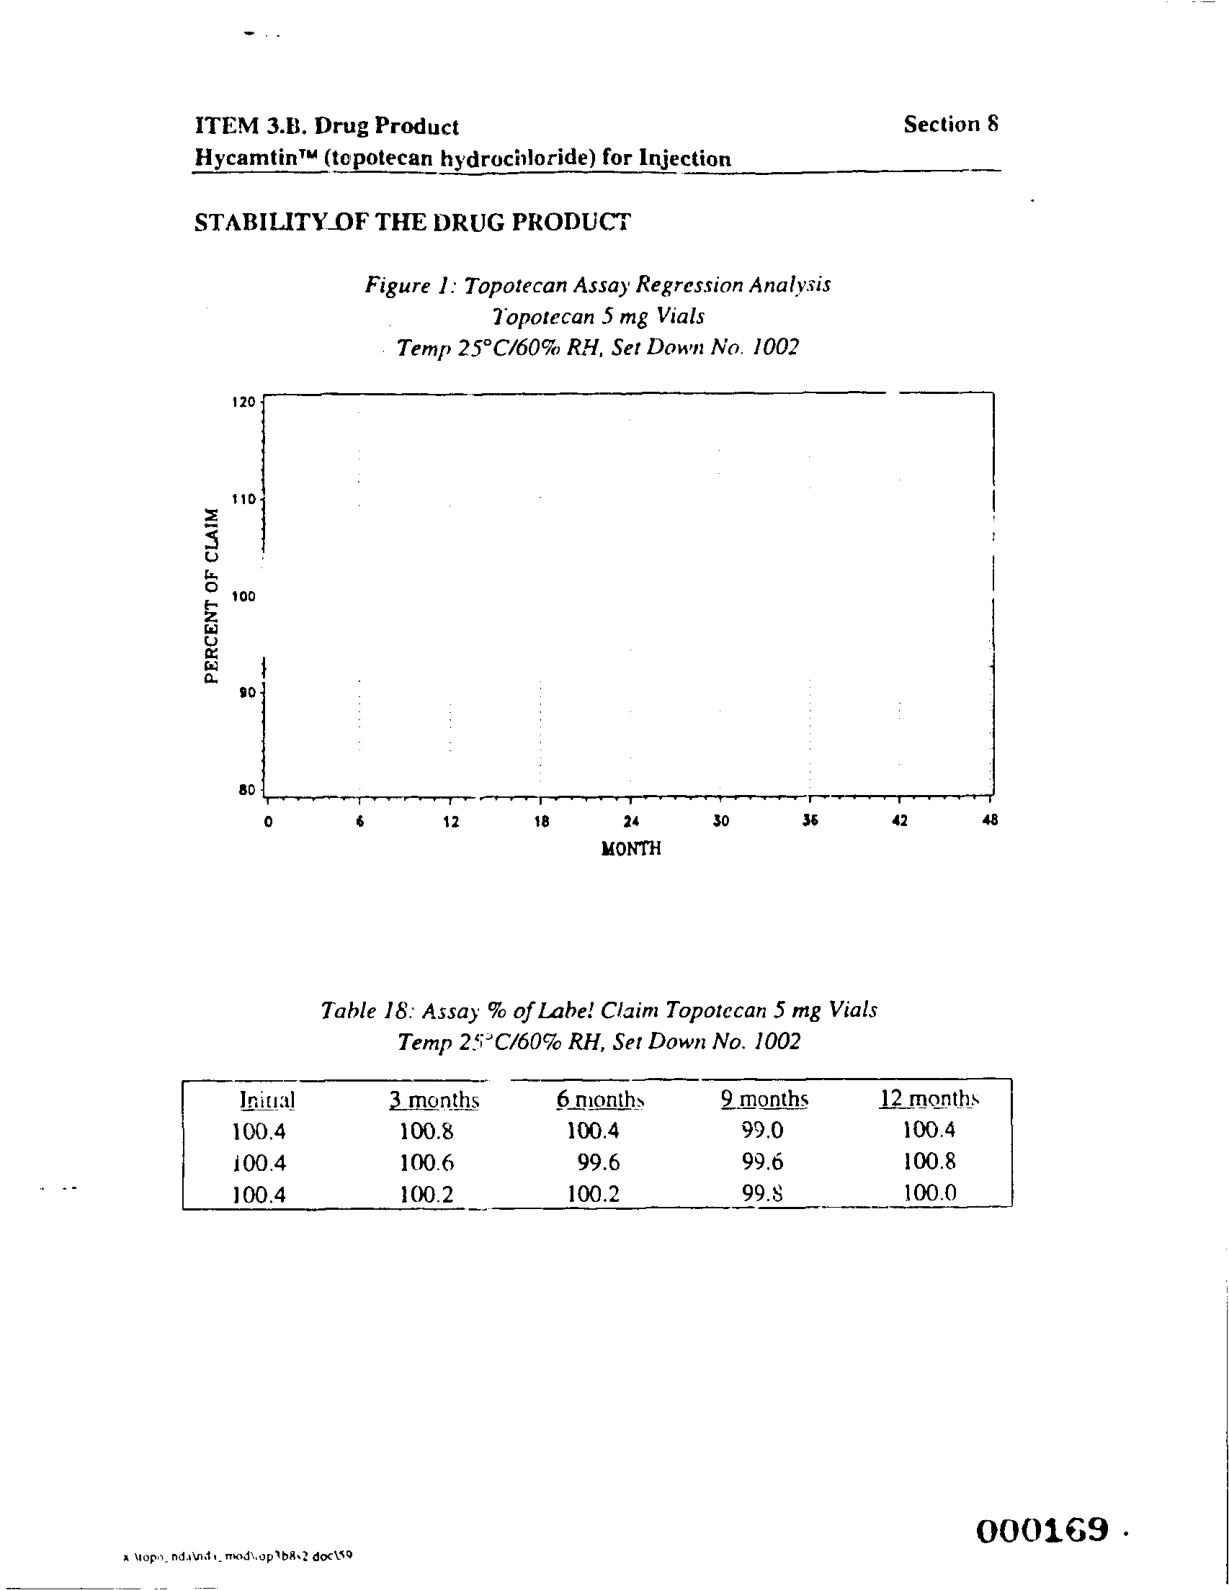partial_lined: (179, 1076, 1013, 1213)
